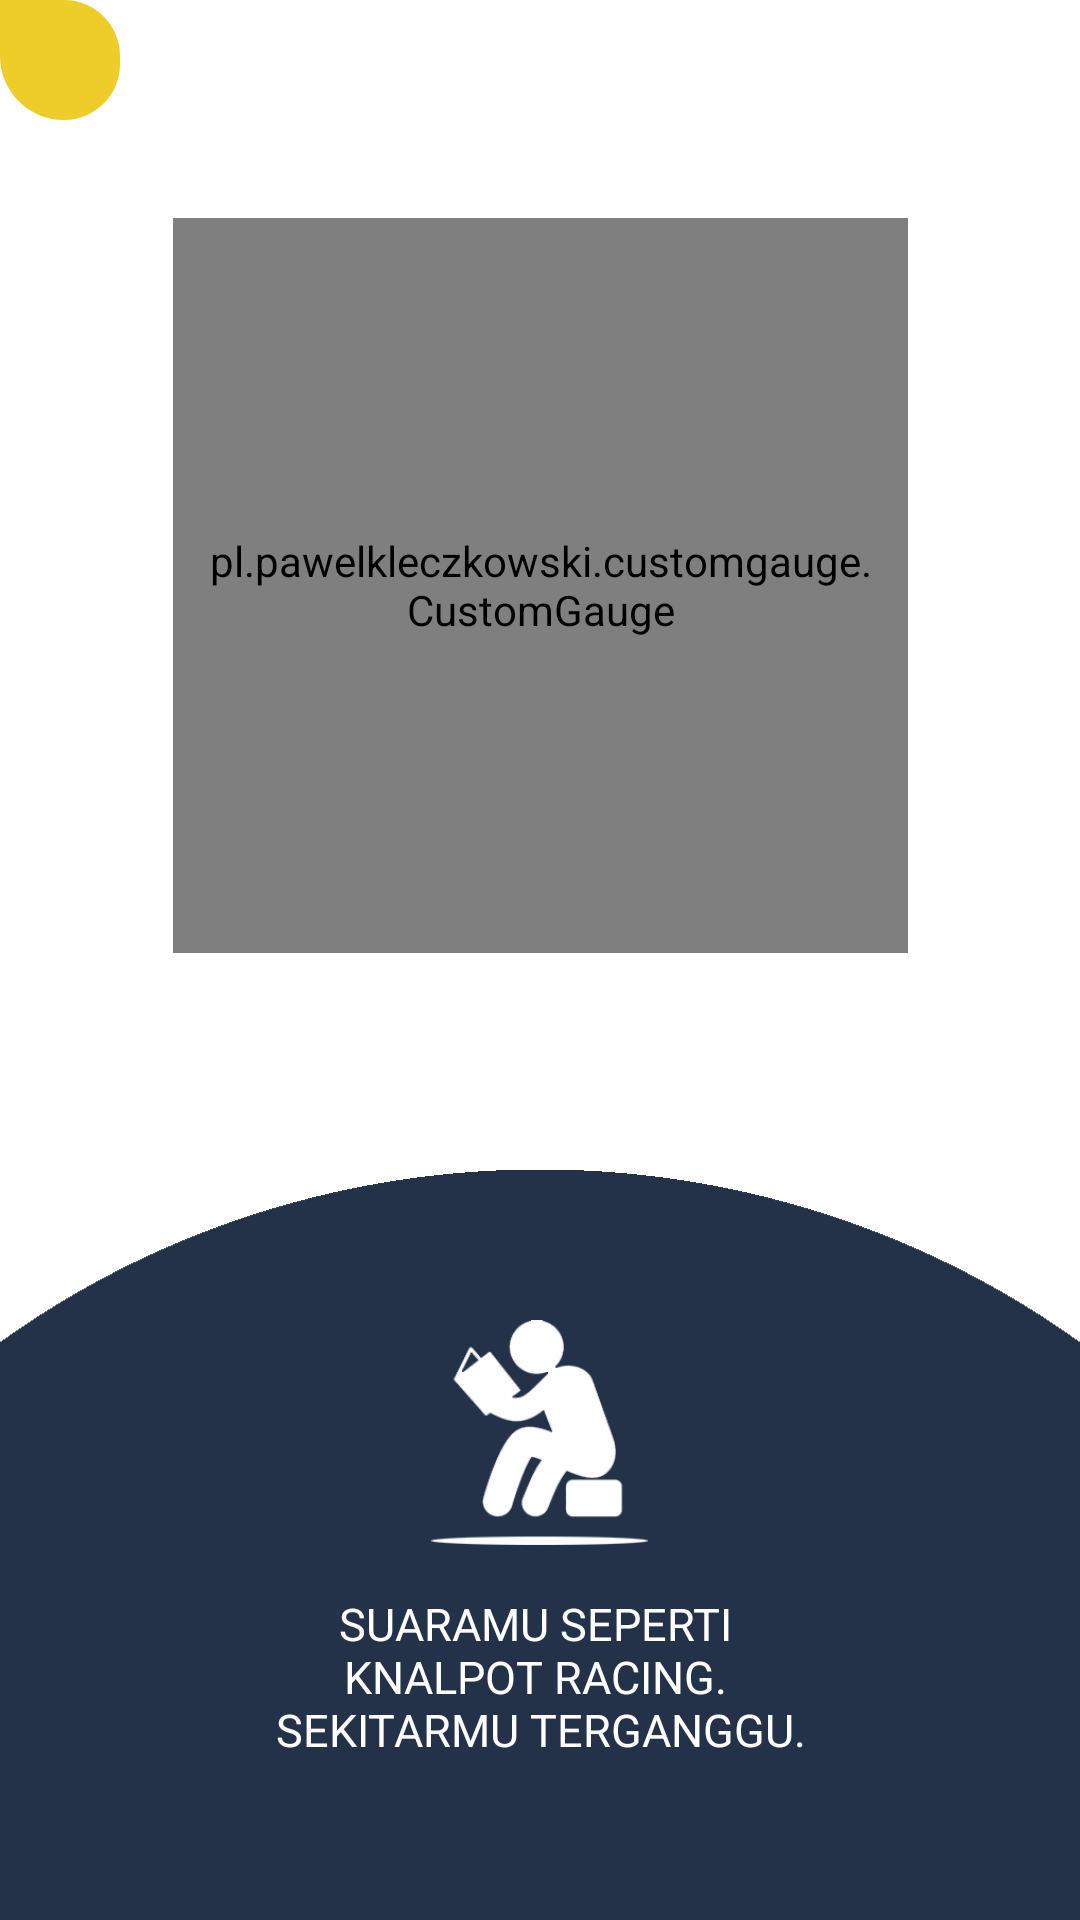

Point at icon controls on the screen. Image size 1080×1920, points as point (x, y).
bacabuku: point (539, 1432)
